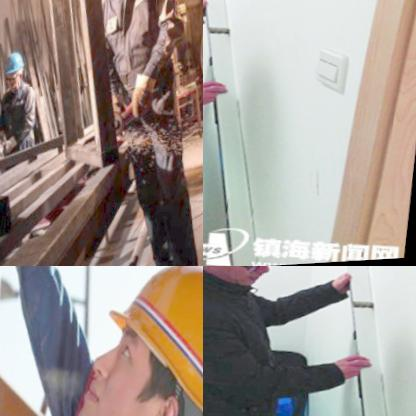helmet: (66, 266, 203, 416), (0, 50, 27, 92)
